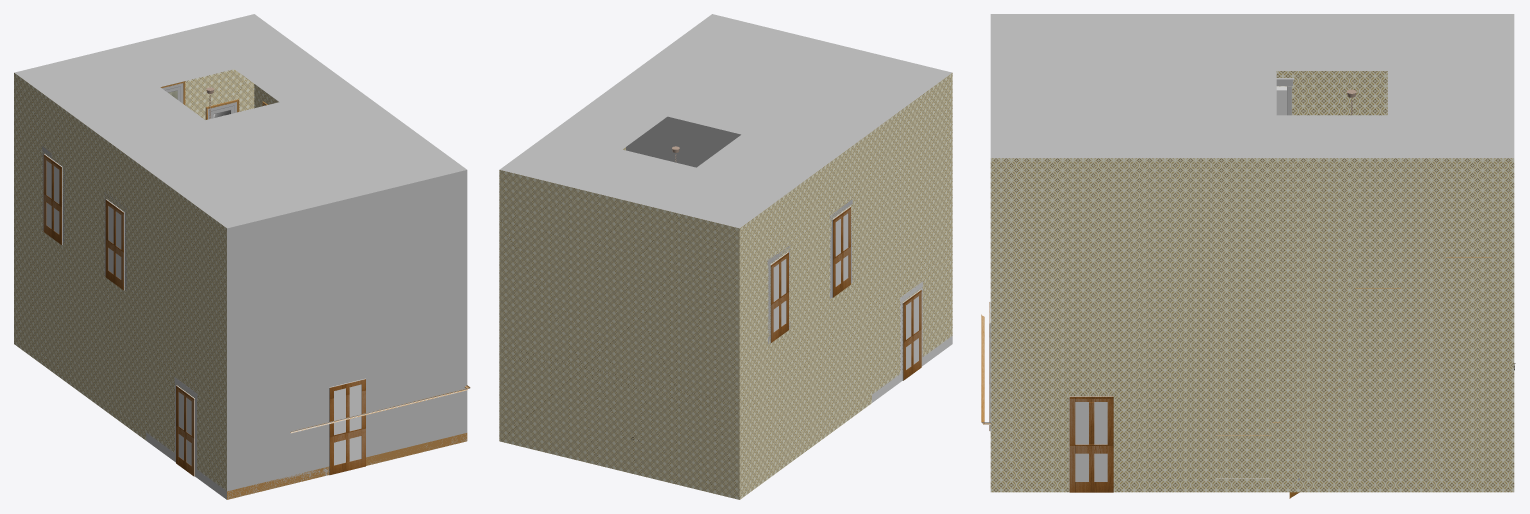
Rendered from hall.glb.
3 views of the same model, side by side, from view 1: azimuth 30°, elevation 25°; view 2: azimuth 150°, elevation 25°; view 3: azimuth 270°, elevation 25° (orthographic). The views are drawn at different scales.
Parts seen in each view (by area): view 1: hall_static, I_door_front, DYN_door_front, COL_static, DYN_door_living, DYN_door_bathroom, DYN_door_bedroom, I_door_bedroom, I_door_living, I_door_bathroom; view 2: hall_static, COL_static, DYN_door_living, DYN_door_bedroom, DYN_door_bathroom, I_door_living, I_door_bedroom, I_door_bathroom; view 3: hall_static, DYN_door_kitchen, I_door_kitchen.
Part boxes in pixels (x1,y1,x2,y2): hall_static: (14, 14, 470, 499); I_door_front: (329, 378, 365, 474); DYN_door_front: (329, 379, 365, 474); COL_static: (146, 377, 469, 499); DYN_door_living: (176, 385, 194, 476); DYN_door_bathroom: (43, 154, 61, 244); DYN_door_bedroom: (105, 200, 123, 290); I_door_bedroom: (106, 199, 124, 290); I_door_living: (176, 385, 194, 476); I_door_bathroom: (44, 154, 62, 244); hall_static: (499, 14, 952, 499); COL_static: (872, 281, 952, 402); DYN_door_living: (903, 290, 921, 380); DYN_door_bedroom: (833, 207, 850, 297); DYN_door_bathroom: (771, 252, 788, 342); I_door_living: (902, 289, 920, 380); I_door_bedroom: (832, 206, 850, 297); I_door_bathroom: (770, 252, 788, 343); hall_static: (981, 14, 1515, 498); DYN_door_kitchen: (1069, 396, 1113, 492); I_door_kitchen: (1069, 396, 1113, 492).
Size of the model in its own units: 6.66 by 7.32 by 10.34.
Materials: 33 (16 with a texture image).
